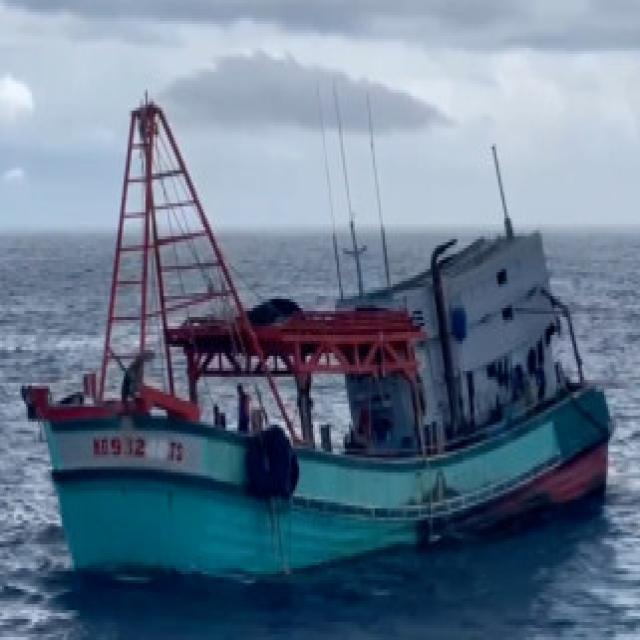Fishing Boat: (19, 84, 629, 518)
